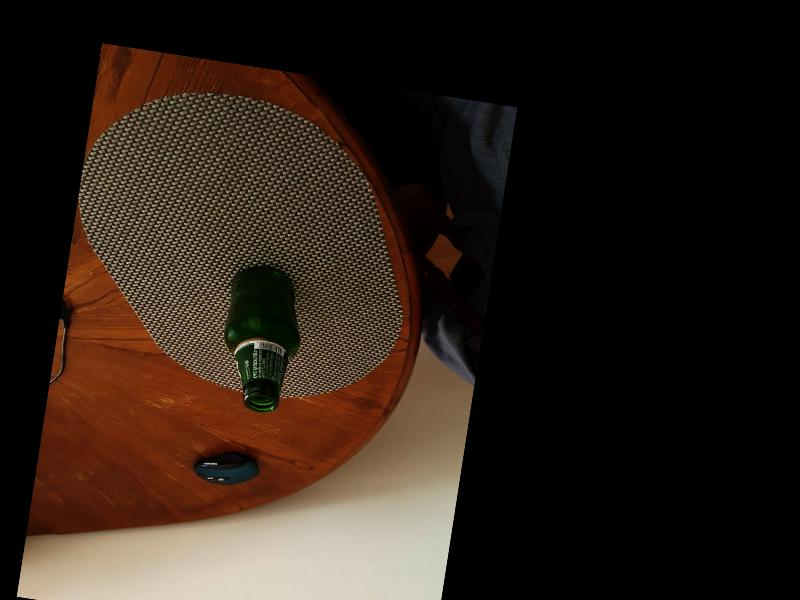Beer: (209, 261, 313, 417)
